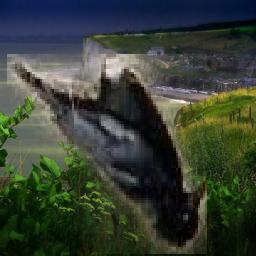Crow: (7, 54, 207, 254)
